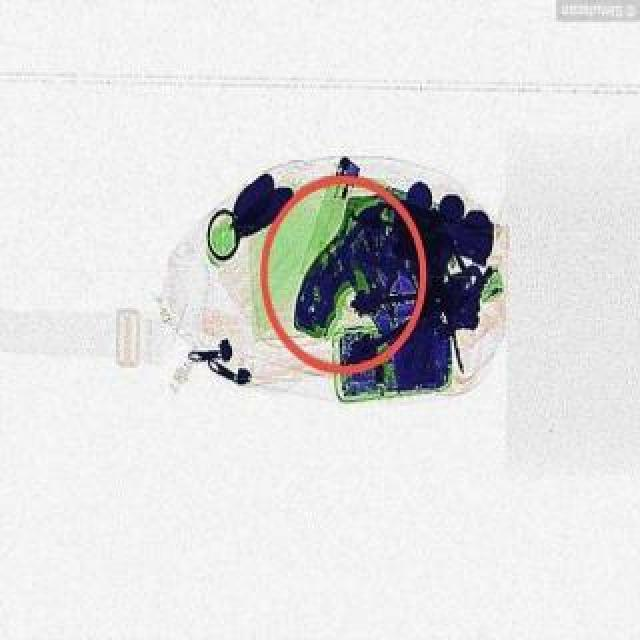gun: (290, 196, 492, 338)
